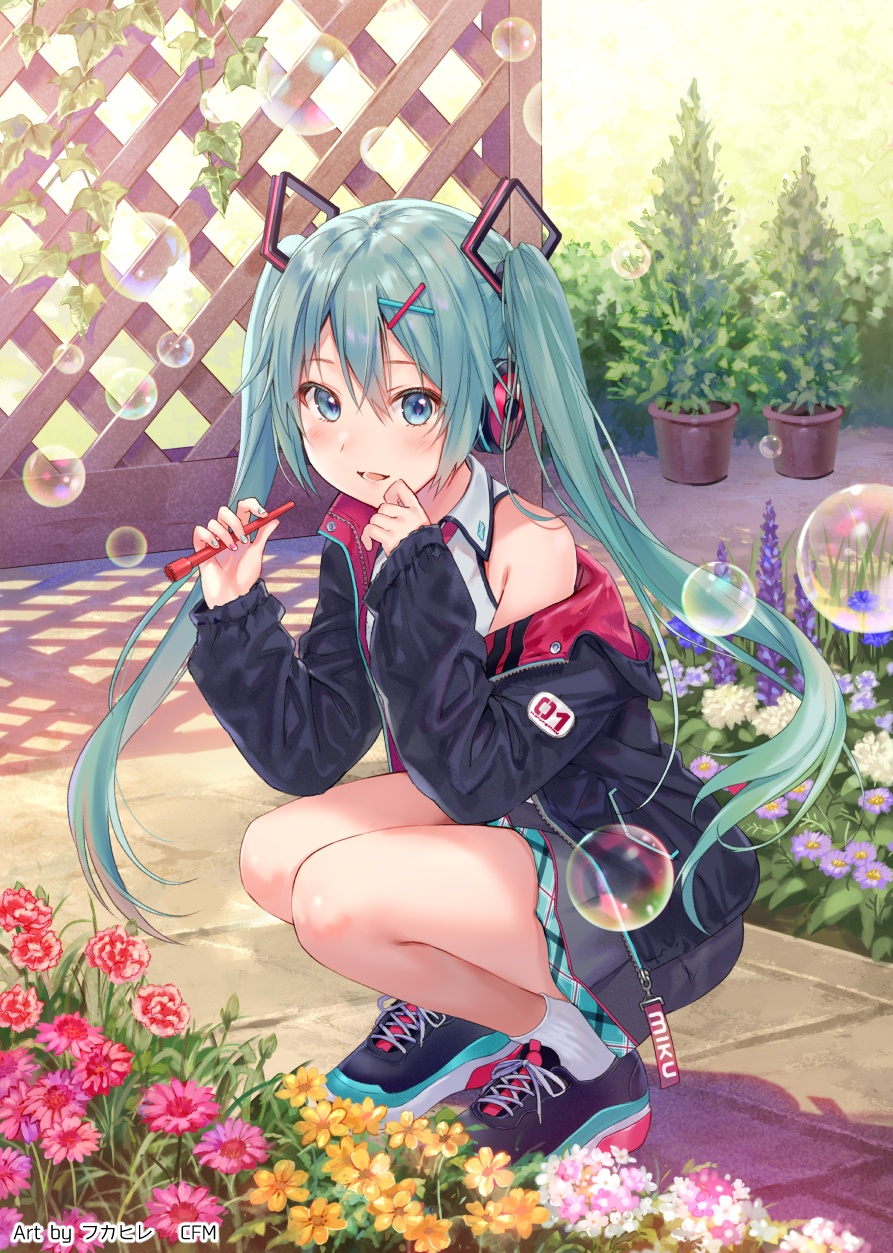纸片人正脸: (240, 190, 538, 518)
